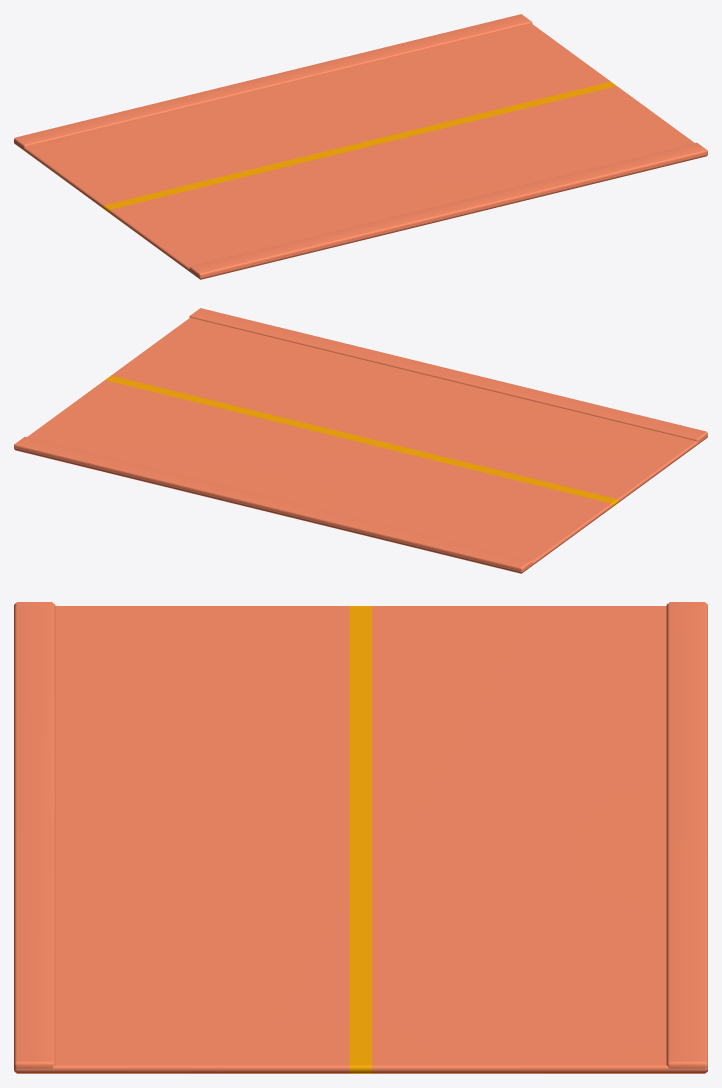
File: City_7_Roadway_1.glb
3 views of the same model, one above another, from view 1: azimuth 30°, elevation 25°; view 2: azimuth 150°, elevation 25°; view 3: azimuth 270°, elevation 25° (orthographic). The views are drawn at different scales.
Parts seen in each view (by area): view 1: City_7_Roadway_1; view 2: City_7_Roadway_1; view 3: City_7_Roadway_1.
Part boxes in pixels (left/top/right/bottom): City_7_Roadway_1: left=14, top=14, right=707, bottom=279; City_7_Roadway_1: left=14, top=308, right=707, bottom=573; City_7_Roadway_1: left=14, top=602, right=707, bottom=1073.
Size of the model in its own units: 17.62 by 0.2266 by 11.2.
Materials: 1 (1 with a texture image).
